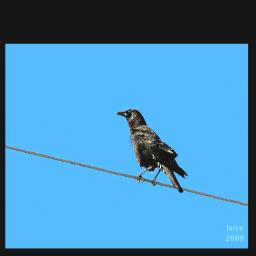Crow: (113, 108, 189, 194)
